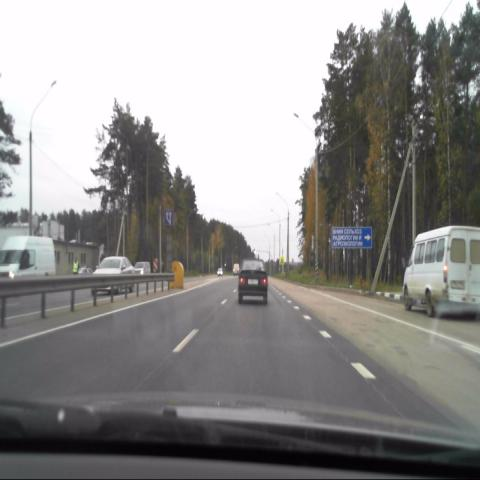5_15_3: (164, 209, 172, 225)
